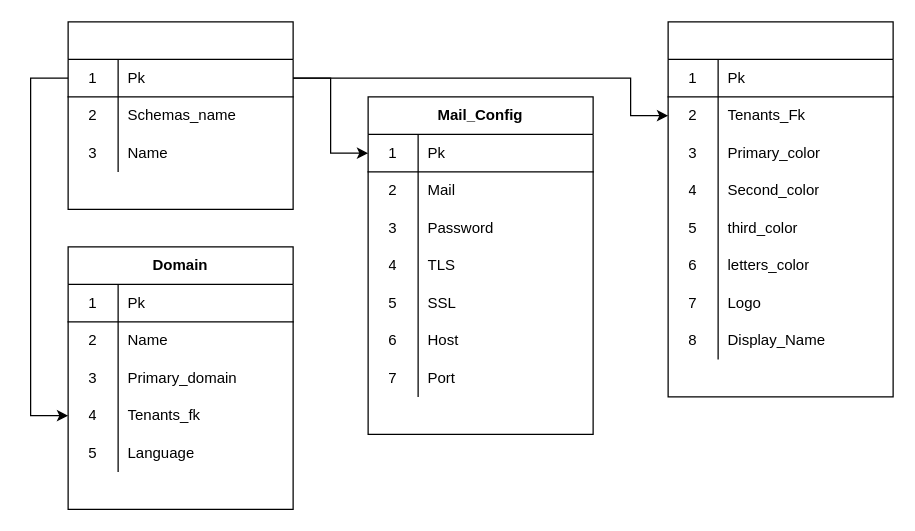
This 915x531 diagram has some shape labels left out. The box of each missing label's shape, as (x1, y1, x2, y2) in pixels:
Tenants: (67, 21, 293, 209)
Visual_Config: (667, 21, 893, 397)
